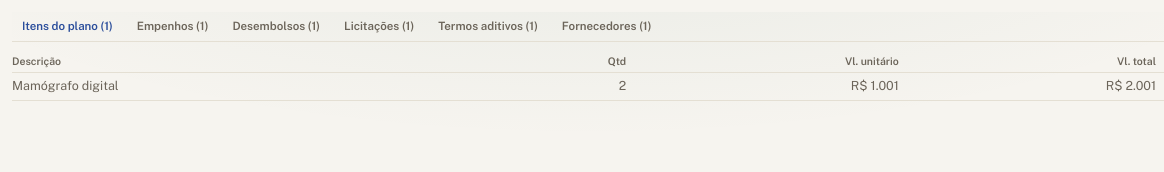
Test case: coleções oficiais do SICONV em celular e desktop › apresenta Licitações sem misturar repasse e pagamento ao fornecedor
Click the button "Licitações (1)": point(379, 27) [334,12,424,41]
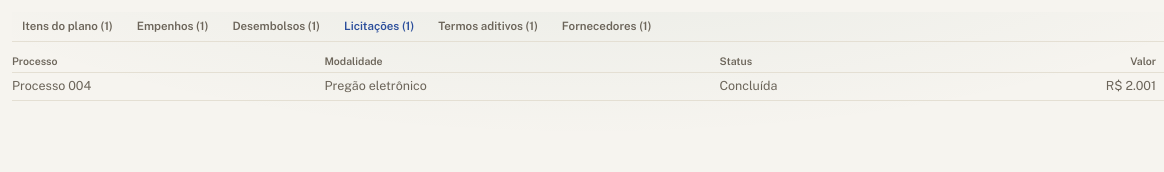
Result: the text "Processo 004" is shown at [12,72,324,100]
